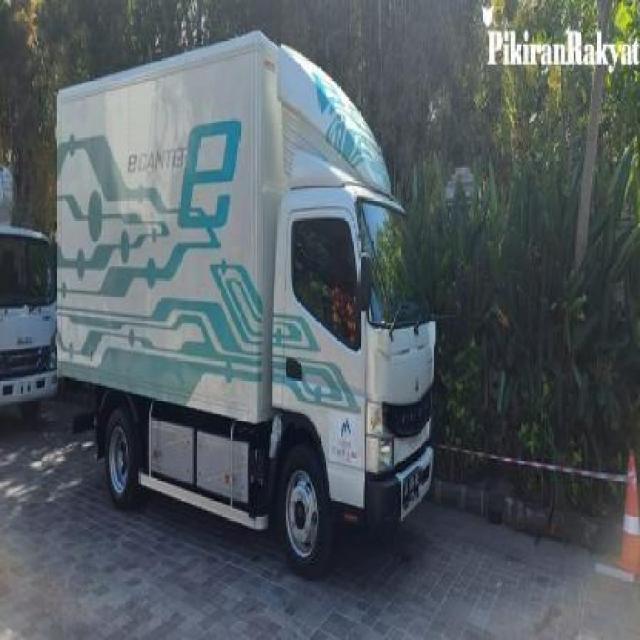truck: (56, 33, 435, 567)
